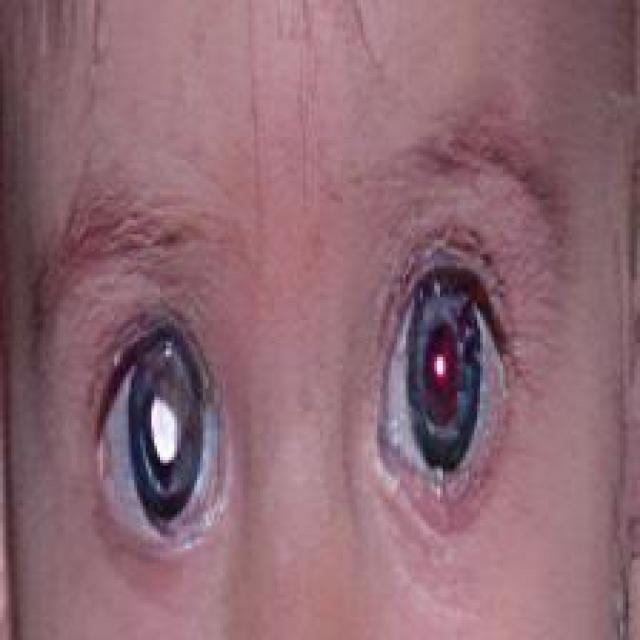reflexo-alterado: (51, 278, 261, 568)
reflexo-normal: (349, 236, 541, 528)
